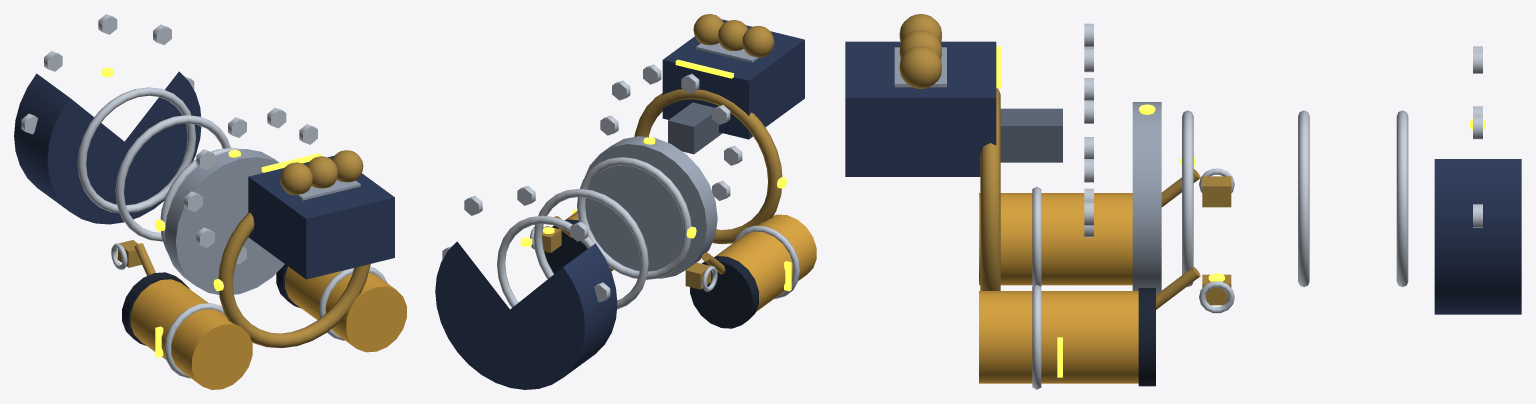
Rendered from tower_nova_damage_s8.glb.
3 views of the same model, side by side, from view 1: azimuth 30°, elevation 25°; view 2: azimuth 150°, elevation 25°; view 3: azimuth 270°, elevation 25° (orthographic). The views are drawn at different scales.
Parts seen in each view (by area): view 1: nova_brake_shroud, nova_cluster_hopper, nova_jacket_collar, nova_napalm_can_r, nova_napalm_can_l, nova_pressure_ring, nova_tube_band1.36, nova_tube_band1.02, nova_jacket_bolts, nova_brake_shroud_bolts, nova_napalm_cap_r, nova_bomblet2 (+8 smaller); view 2: nova_brake_shroud, nova_jacket_collar, nova_cluster_hopper, nova_napalm_can_r, nova_pressure_ring, nova_napalm_cap_r, nova_tube_band0.62, nova_tube_band1.02, nova_jacket_bolts, nova_cluster_feed, nova_tube_band1.36, nova_brake_shroud_bolts (+9 smaller); view 3: nova_cluster_hopper, nova_napalm_can_l, nova_brake_shroud, nova_napalm_can_r, nova_jacket_collar, nova_cluster_feed, nova_pressure_ring, nova_tube_band1.36, nova_tube_band1.02, nova_tube_band0.62, nova_jacket_bolts, nova_napalm_cap_l (+10 smaller).
Boxes of the visible parts, x1,y1,x2,y2 form: nova_brake_shroud: (14, 71, 201, 224); nova_cluster_hopper: (248, 156, 394, 279); nova_jacket_collar: (164, 149, 284, 294); nova_napalm_can_r: (130, 279, 252, 389); nova_napalm_can_l: (285, 266, 406, 352); nova_pressure_ring: (218, 212, 370, 348); nova_tube_band1.36: (77, 87, 195, 213); nova_tube_band1.02: (115, 115, 230, 241); nova_jacket_bolts: (184, 107, 317, 264); nova_brake_shroud_bolts: (21, 14, 194, 134); nova_napalm_cap_r: (122, 272, 189, 345); nova_bomblet2: (280, 162, 312, 195); nova_brake_shroud: (435, 241, 617, 389); nova_jacket_collar: (584, 136, 717, 278); nova_cluster_hopper: (662, 19, 804, 139); nova_napalm_can_r: (715, 214, 816, 311); nova_pressure_ring: (634, 89, 782, 244); nova_napalm_cap_r: (690, 256, 758, 328); nova_tube_band0.62: (577, 157, 691, 279); nova_tube_band1.02: (533, 189, 648, 309); nova_jacket_bolts: (600, 64, 742, 200); nova_cluster_feed: (668, 102, 722, 154); nova_tube_band1.36: (497, 215, 594, 307); nova_brake_shroud_bolts: (442, 186, 610, 302); nova_cluster_hopper: (845, 41, 996, 176); nova_napalm_can_l: (979, 291, 1138, 383); nova_brake_shroud: (1434, 159, 1521, 314); nova_napalm_can_r: (979, 193, 1132, 285); nova_jacket_collar: (1132, 102, 1161, 294); nova_cluster_feed: (1000, 108, 1062, 162); nova_pressure_ring: (980, 88, 1000, 290); nova_tube_band1.36: (1396, 110, 1408, 287); nova_tube_band1.02: (1298, 110, 1309, 286); nova_tube_band0.62: (1182, 110, 1193, 287); nova_jacket_bolts: (1084, 23, 1093, 237); nova_napalm_cap_l: (1138, 288, 1155, 386).
Size of the model in its own units: 1.17 by 1.16 by 2.33.
